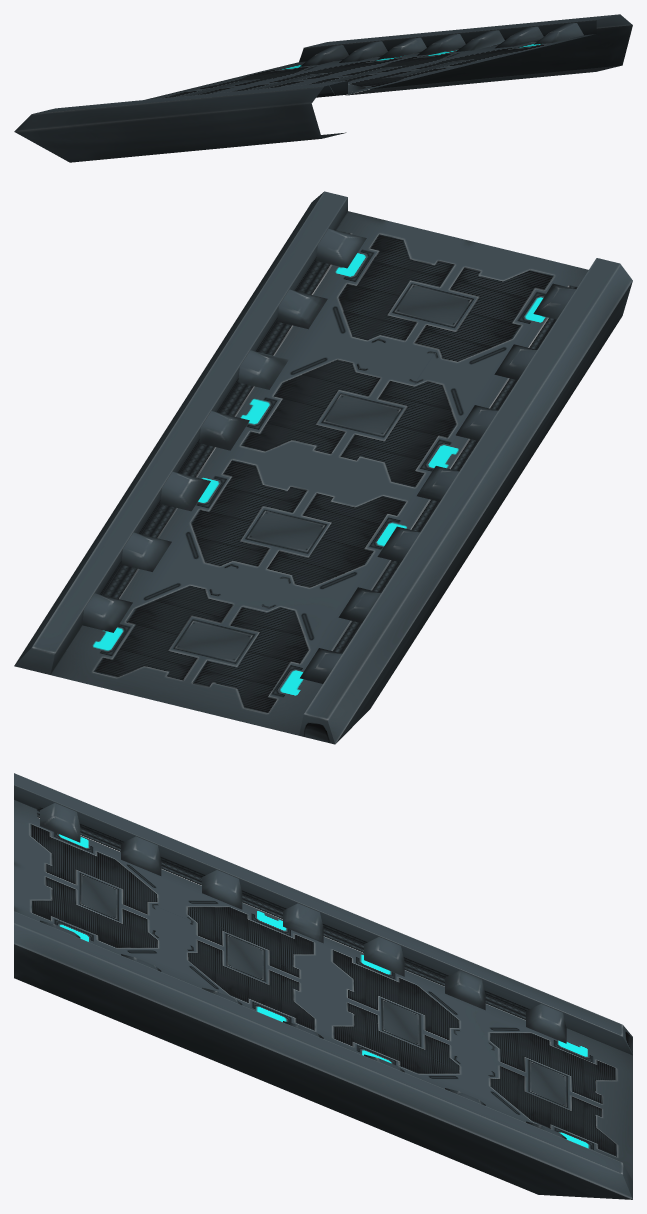
Rendered from wrc_ramp_mdl.FBX.
The picture shows the model from 3 angles, top to bottom: view 1: azimuth 30°, elevation 25°; view 2: azimuth 150°, elevation 25°; view 3: azimuth 270°, elevation 25°; orthographic projection. The views are drawn at different scales.
Parts seen in each view (by area): view 1: wrc_ramp_mdl; view 2: wrc_ramp_mdl; view 3: wrc_ramp_mdl.
Boxes of the visible parts, <box> form: wrc_ramp_mdl: <box>14,14,632,162</box>; wrc_ramp_mdl: <box>14,191,632,744</box>; wrc_ramp_mdl: <box>14,773,632,1199</box>.
Bounding box in the file's own units: 316 × 244 × 507.
